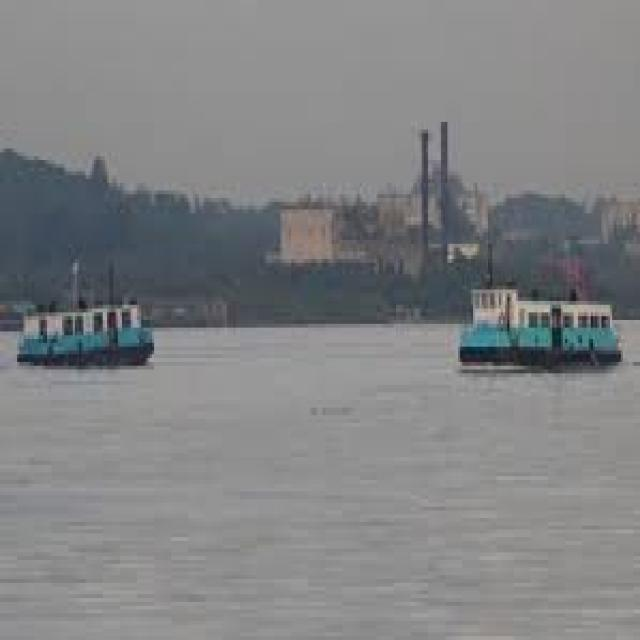houseboat: (0, 267, 171, 384), (441, 271, 623, 373)
